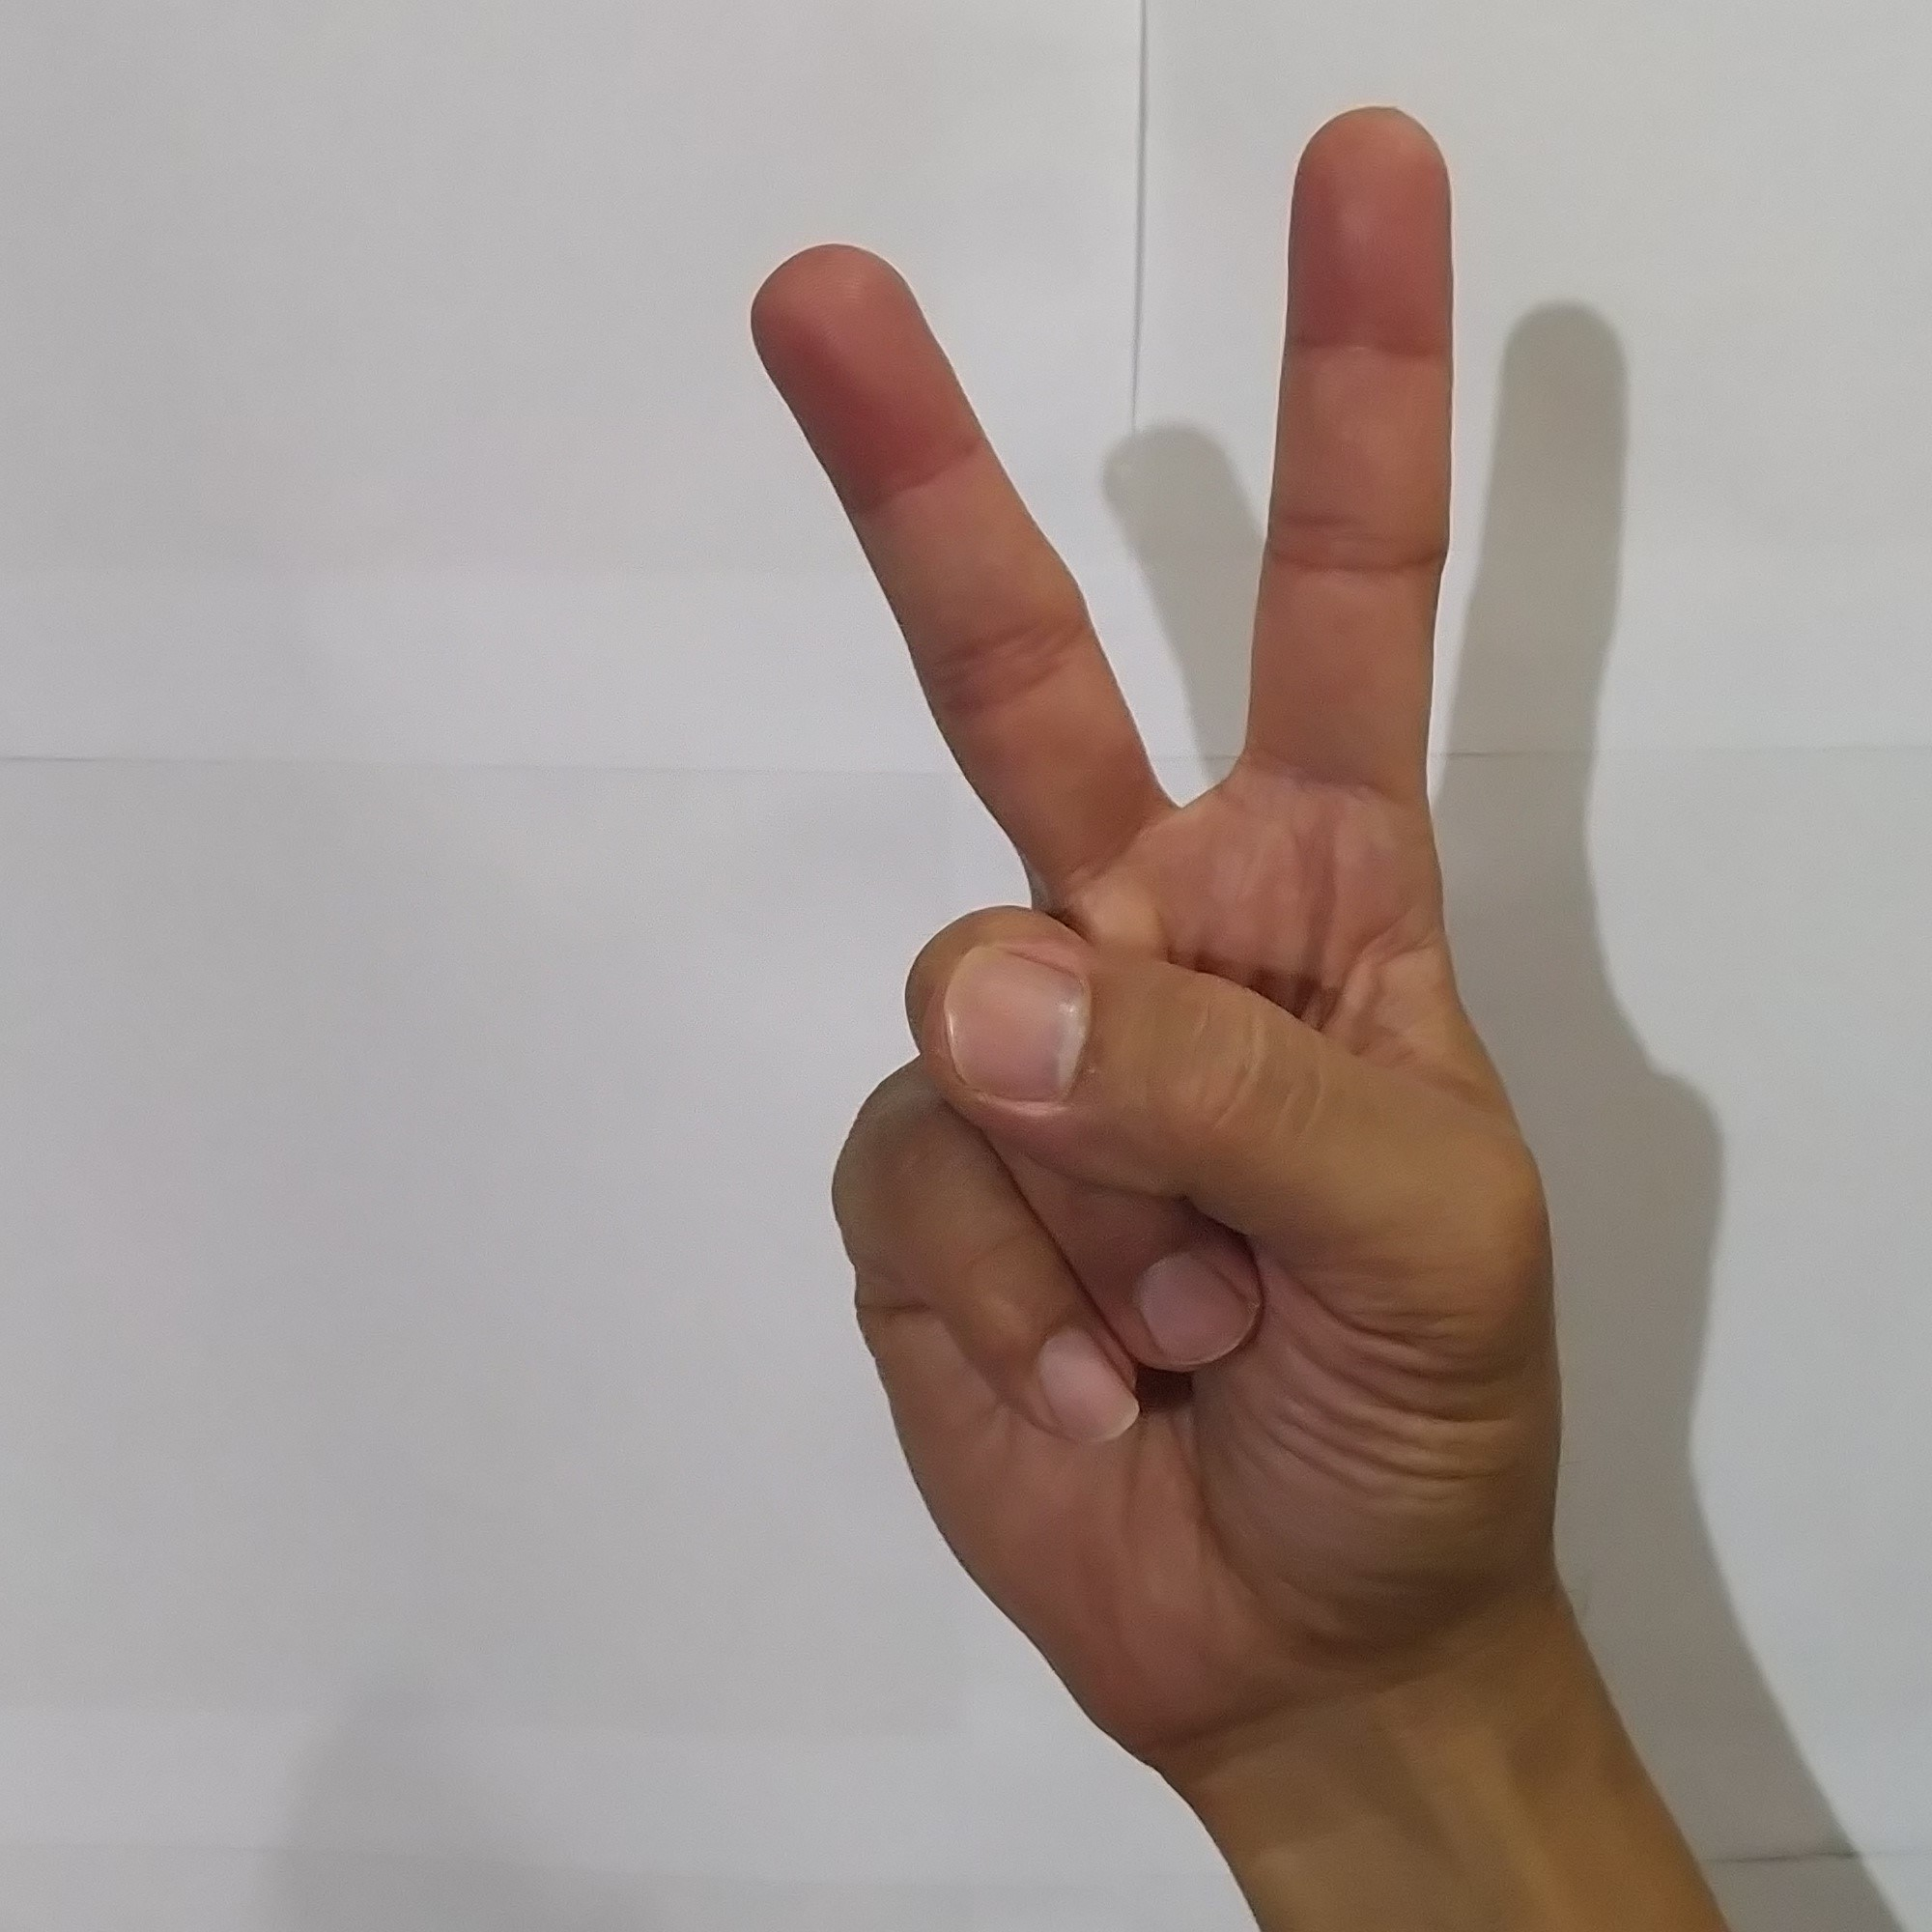V: (722, 85, 1610, 1697)
